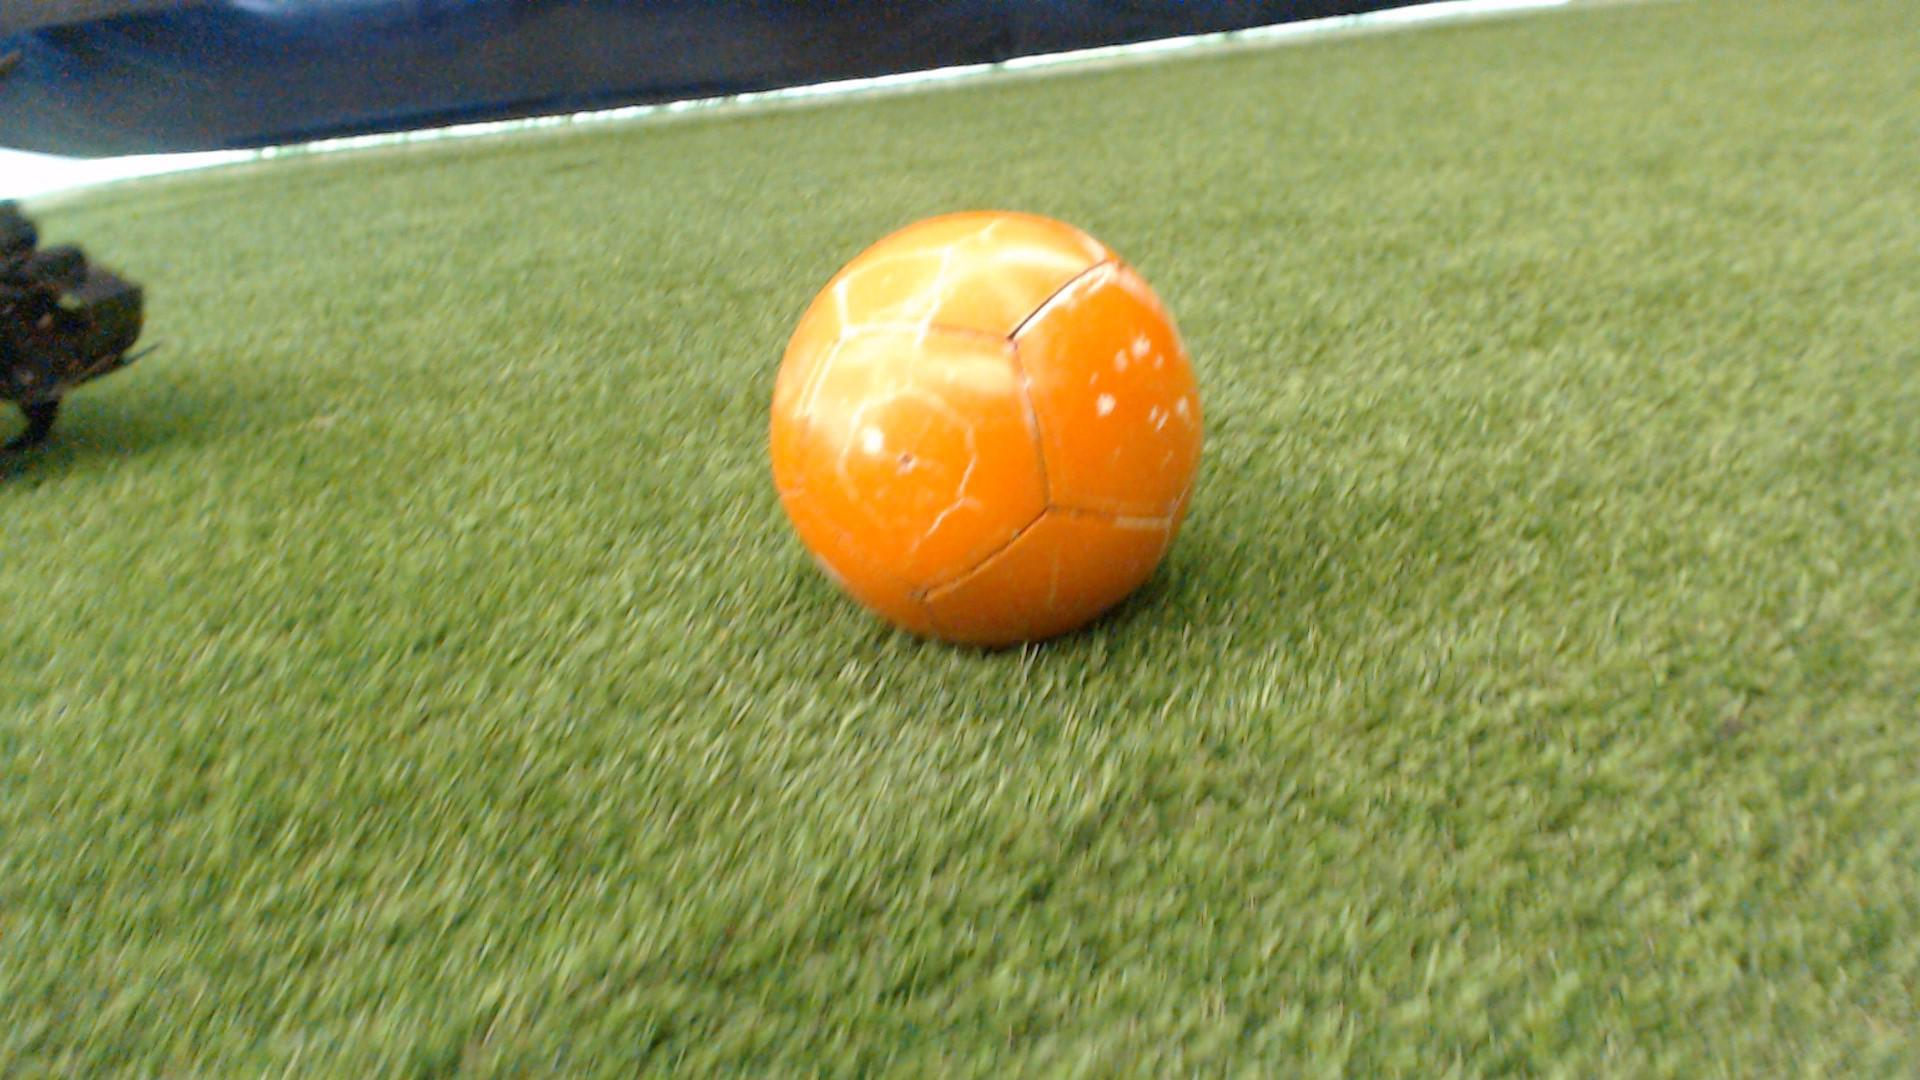bola: (735, 169, 1250, 676)
